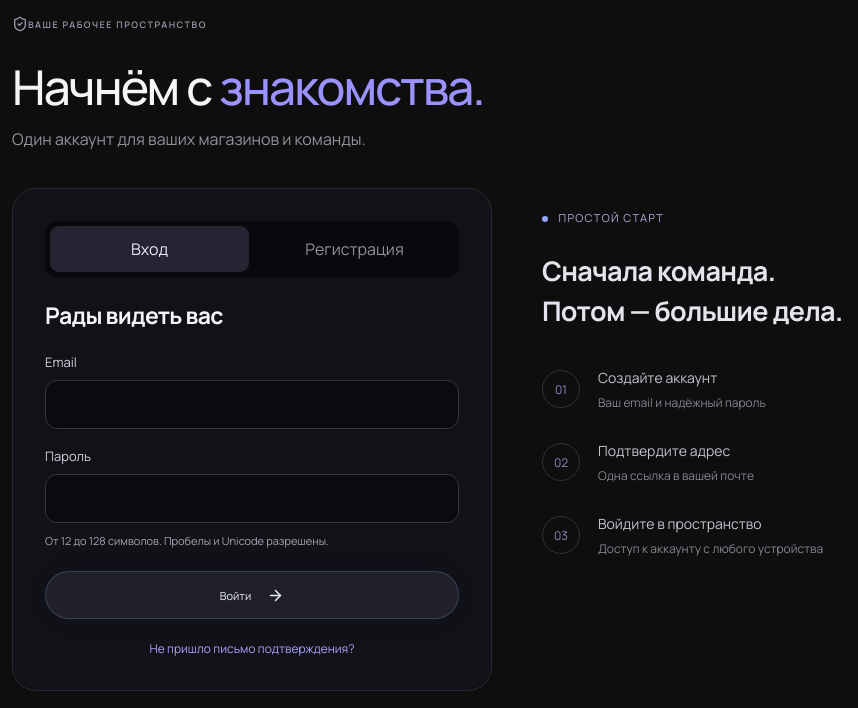
accounts › resends verification with CSRF
Click the button "Не пришло письмо подтверждения?" at x=252, y=649, box [45, 639, 459, 658]
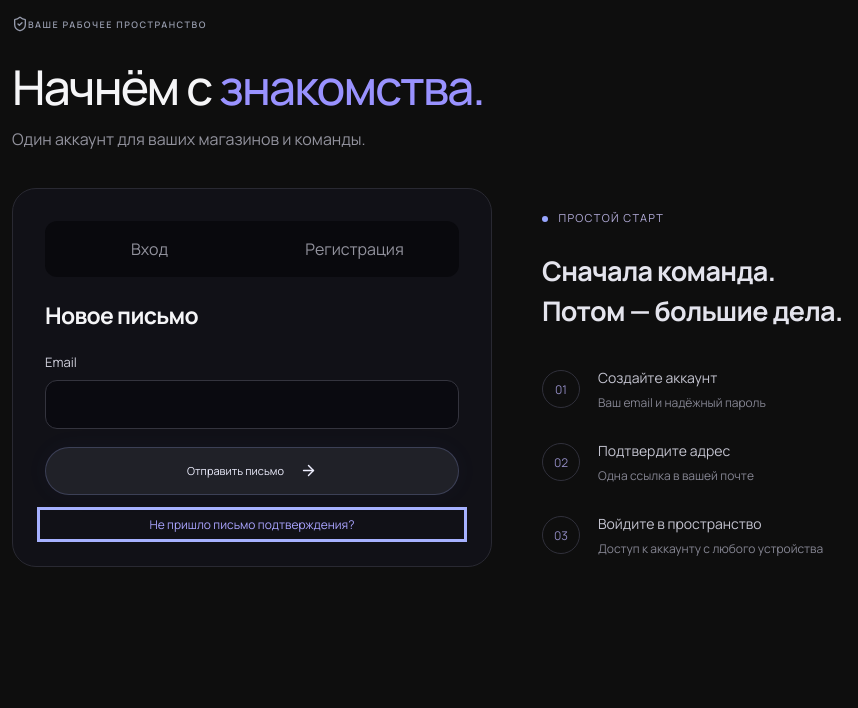
Type "owner@example.com" into the field labelled "Email" at x=252, y=404, box [45, 380, 459, 429]
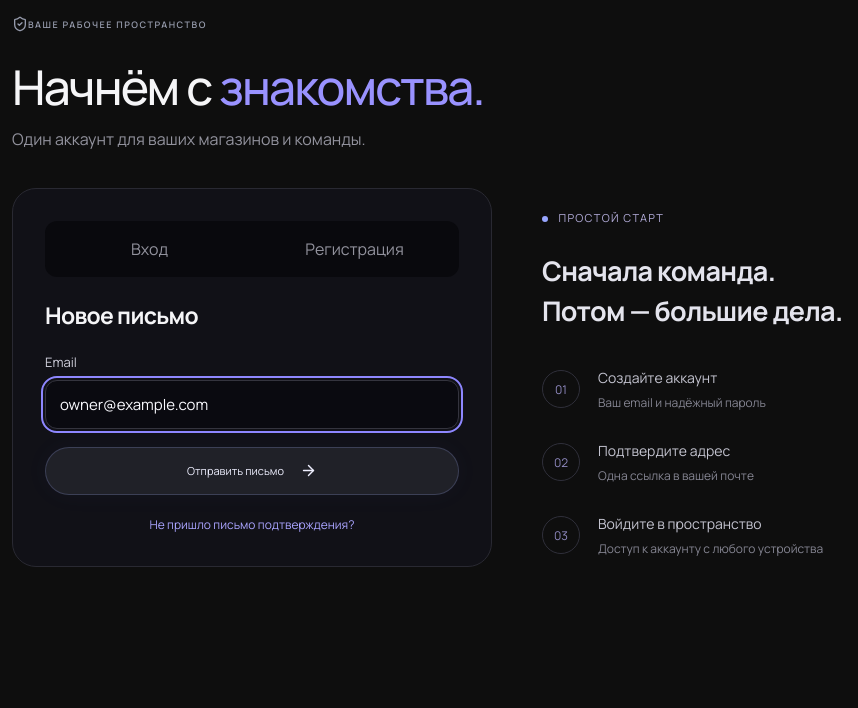
Click the button "Отправить письмо" at x=252, y=471, box [45, 447, 459, 495]
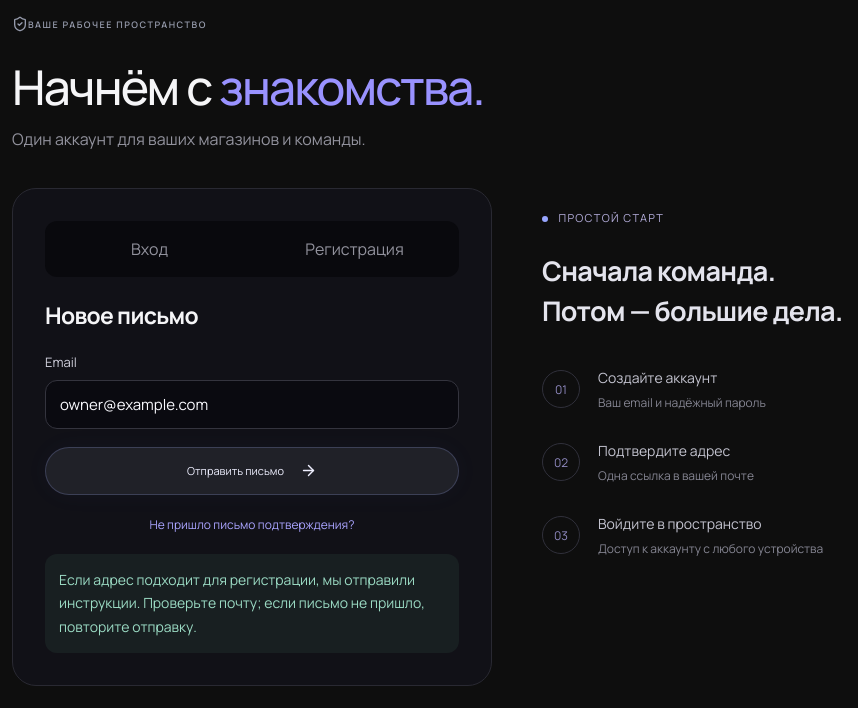
Result: the message shows "Проверьте почту" at [59, 570, 425, 636]
